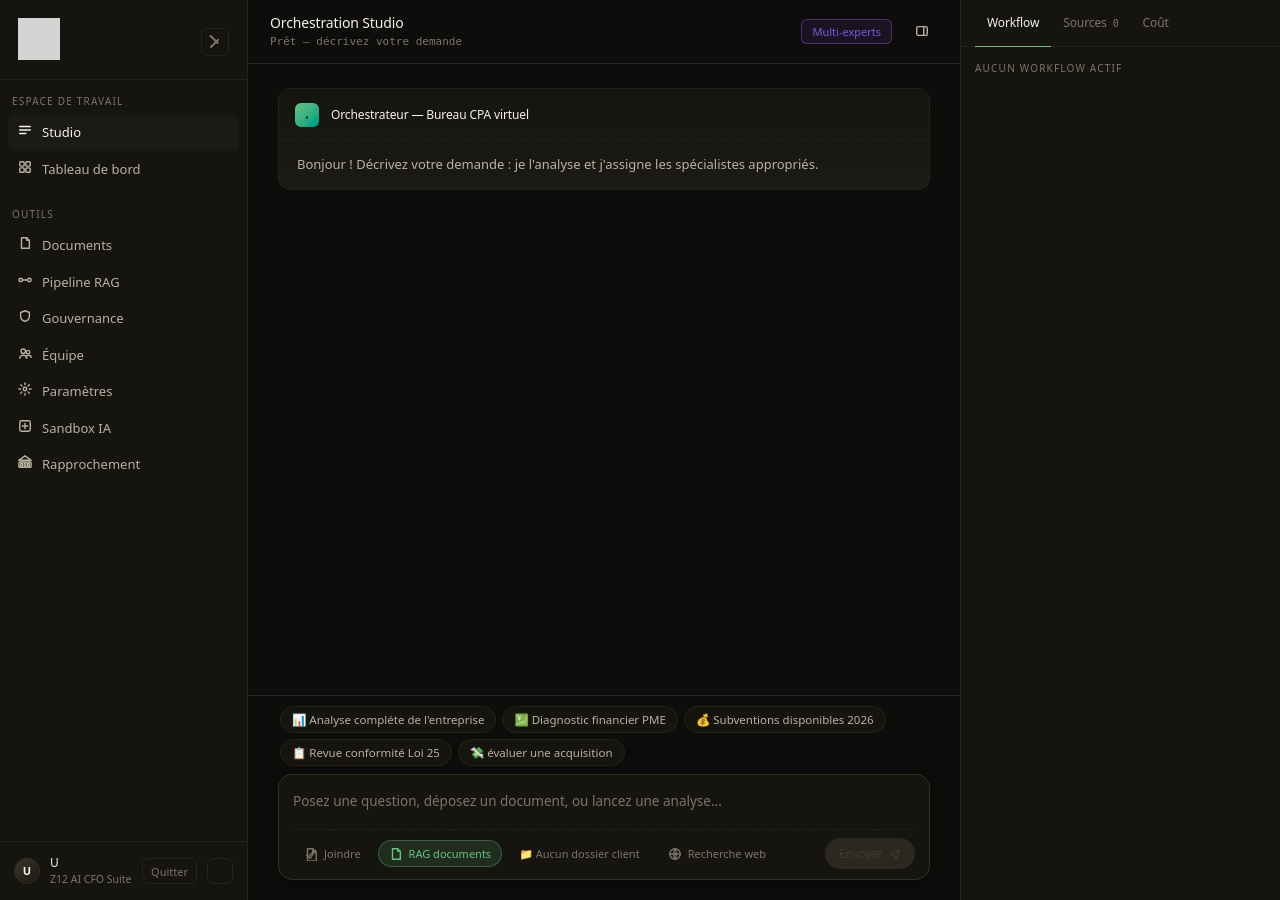
administrator status stays up to date › shows the administrator label and the tab once the server grants the right, without reloading
Click the element showing "Documents": (65,245) [18,236,112,254]
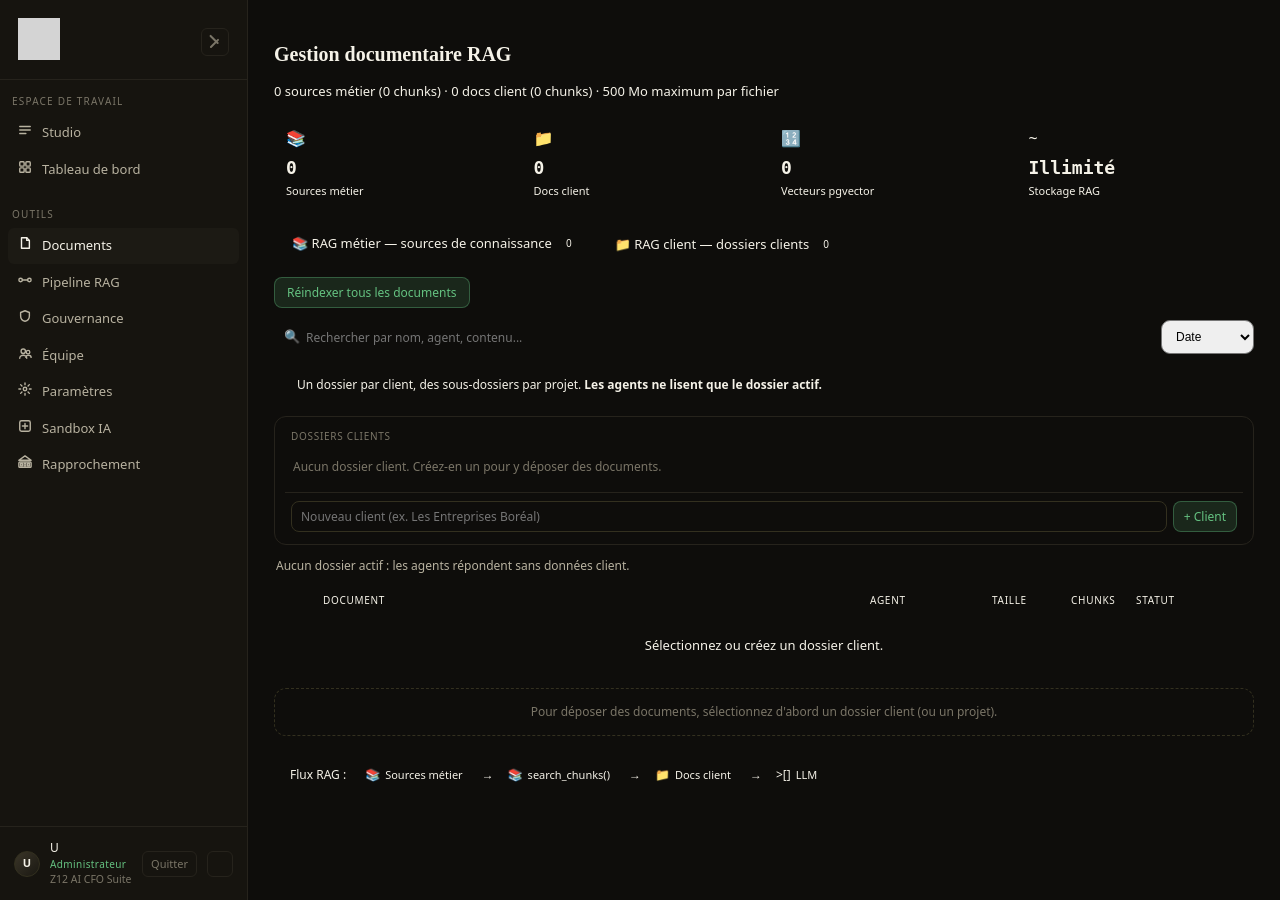
Expected: the button "📚 RAG métier — sources de connaissance 0" is shown, [274,225,597,263]
Expected: the text "Administrateur" is shown, [50,857,132,872]
